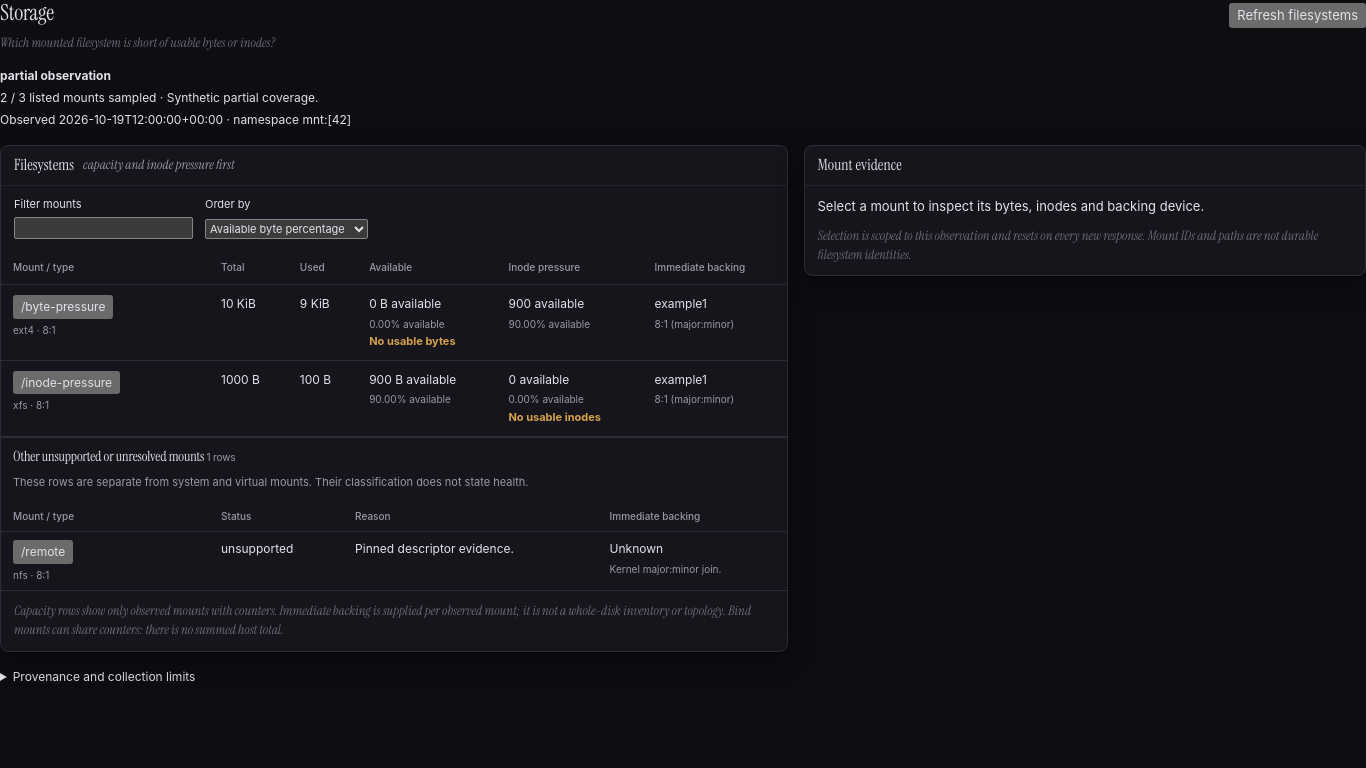
sorts by available percentage, filters locally and supports keyboard selection
Check: the button "/byte-pressure" is shown, box [13, 295, 113, 319]
Select "Available inode percentage" in the dropdown labelled "Order by": (286, 229) [205, 219, 368, 239]
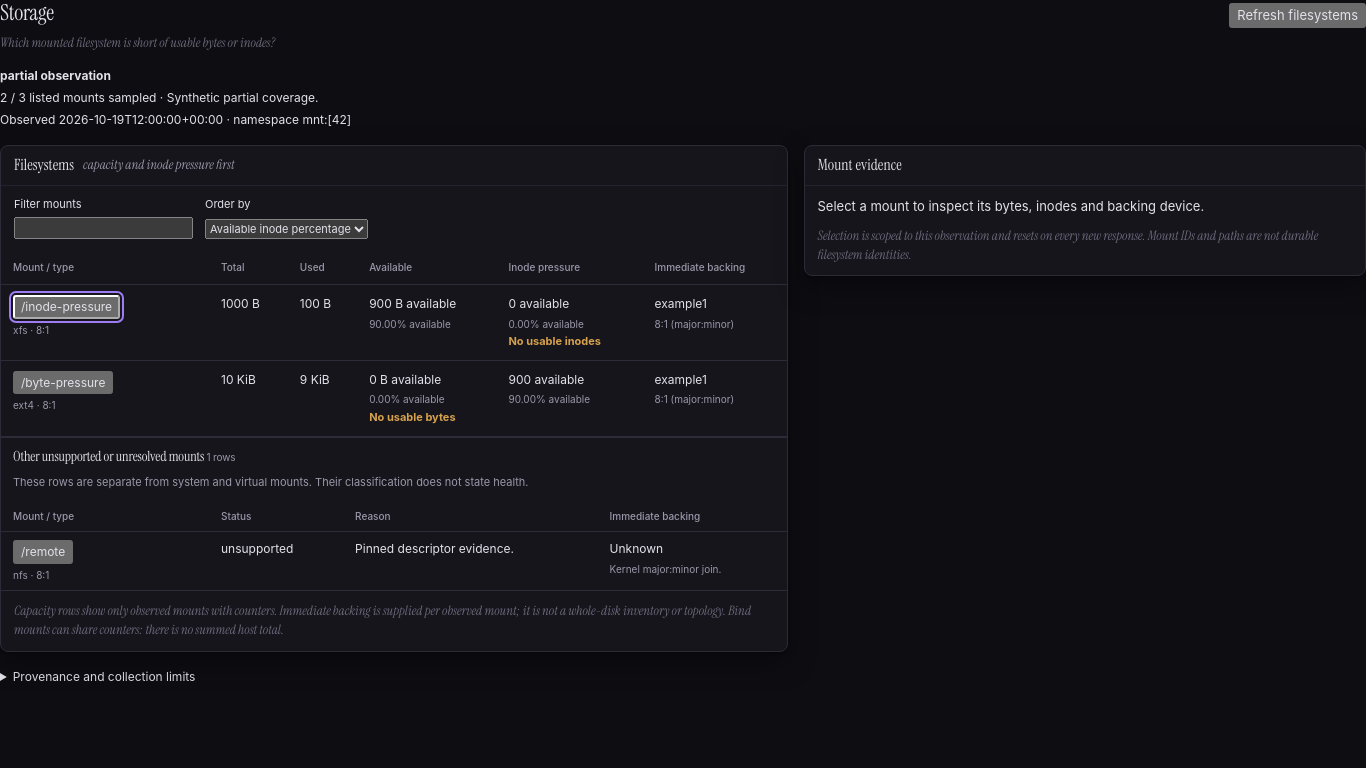
Check: the row that starts with "/inode-pressure" is shown, box [13, 295, 120, 319]
Press Enter
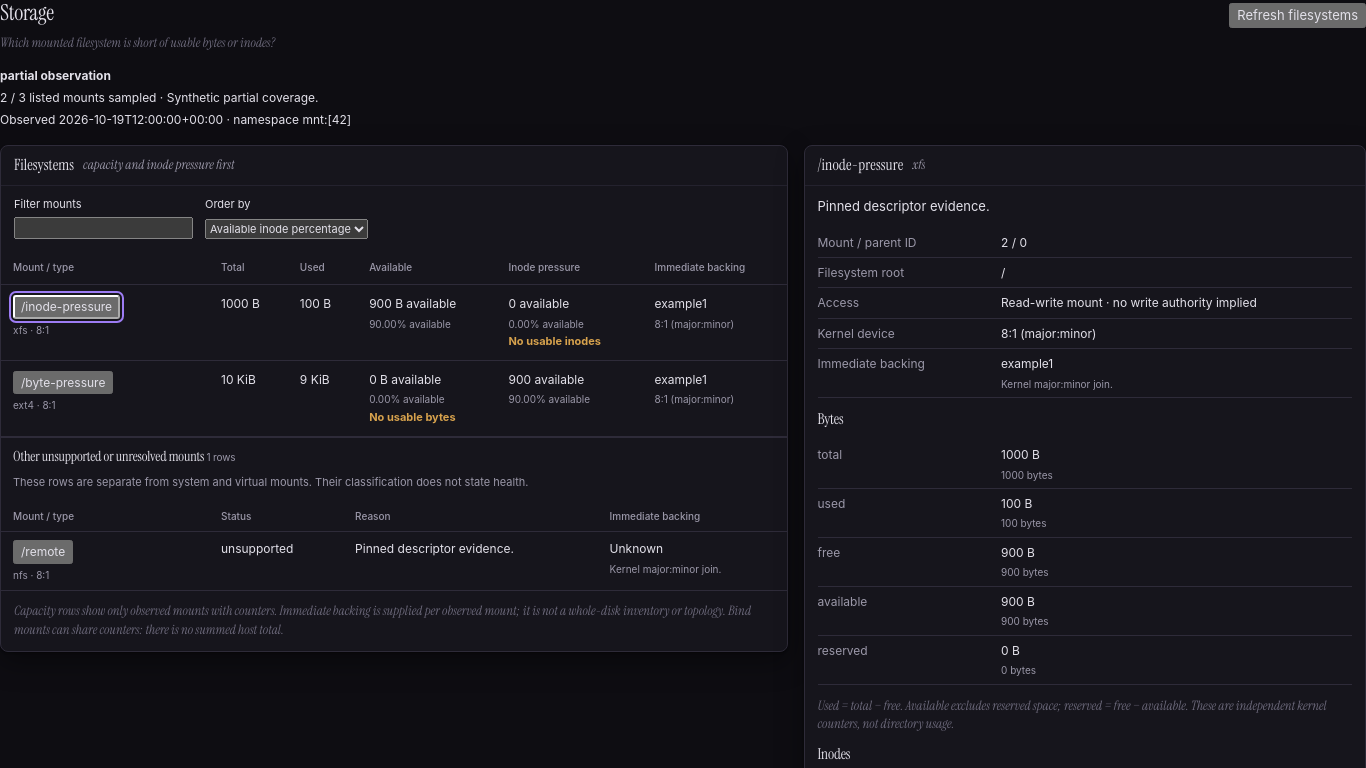
In the field labelled "Filter mounts": (104, 228) [14, 217, 193, 239], type "remote"
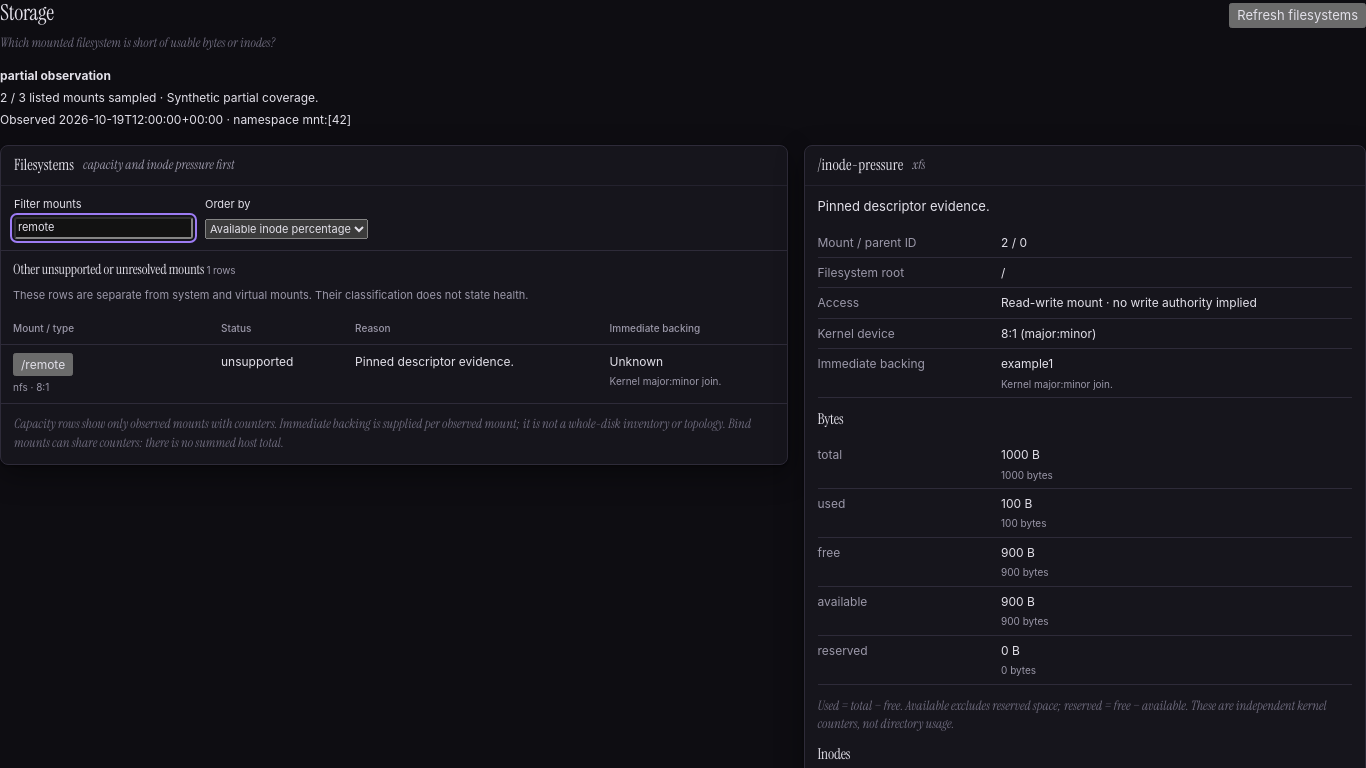
Check: the button "/remote" is shown, box [13, 353, 73, 376]
Check: the button "/byte-pressure" is gone
